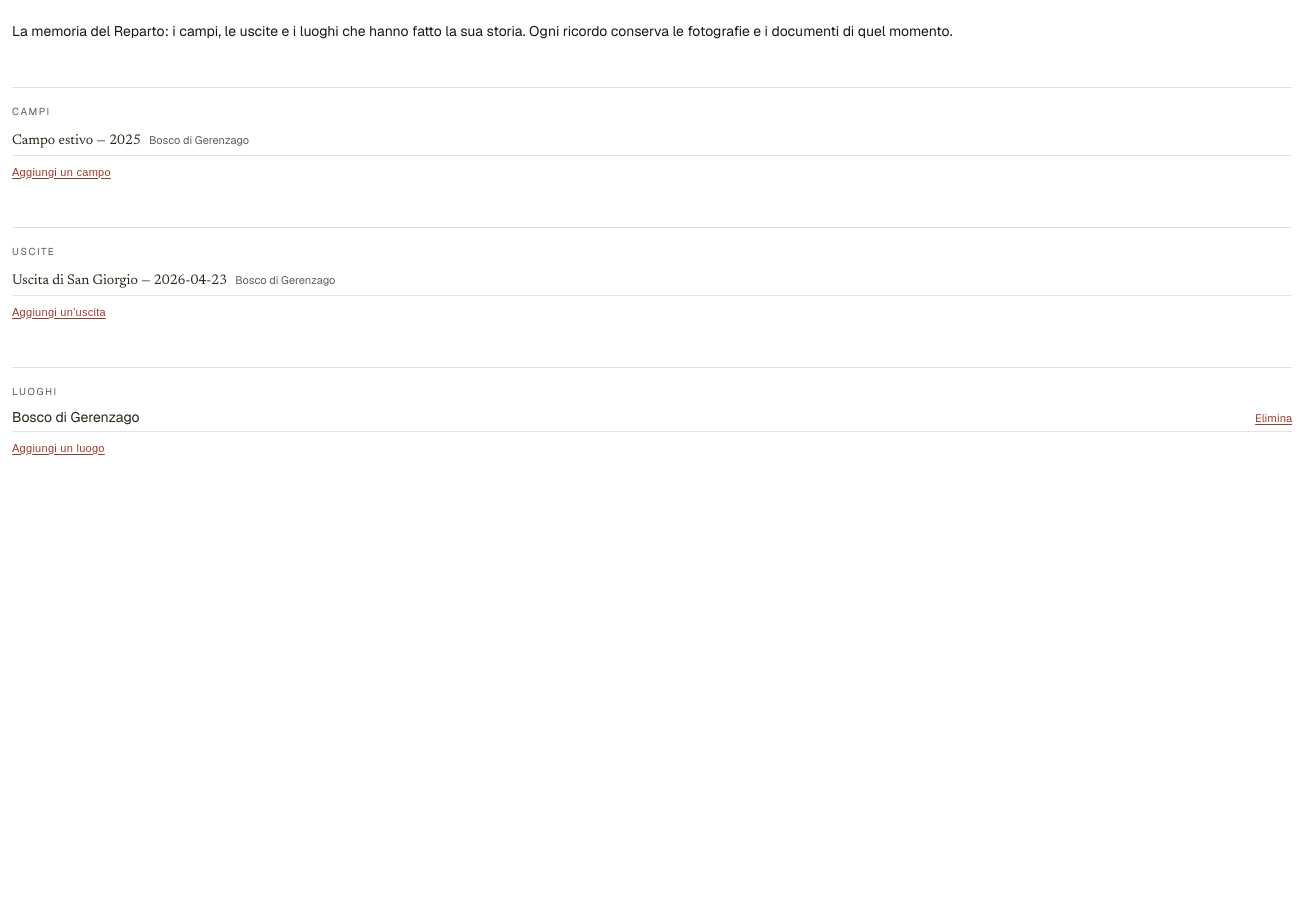
Test: ArchivioSurface — baule dell'archivio (Fase 9) › un'uscita con fotografie le mostra come link al file firmato
expect the button "Campo estivo — 2025" is shown: met, box [12,131,141,151]
Click the button "Uscita di San Giorgio — 2026-04-23" at {"x": 120, "y": 281}, box [12,271,227,291]
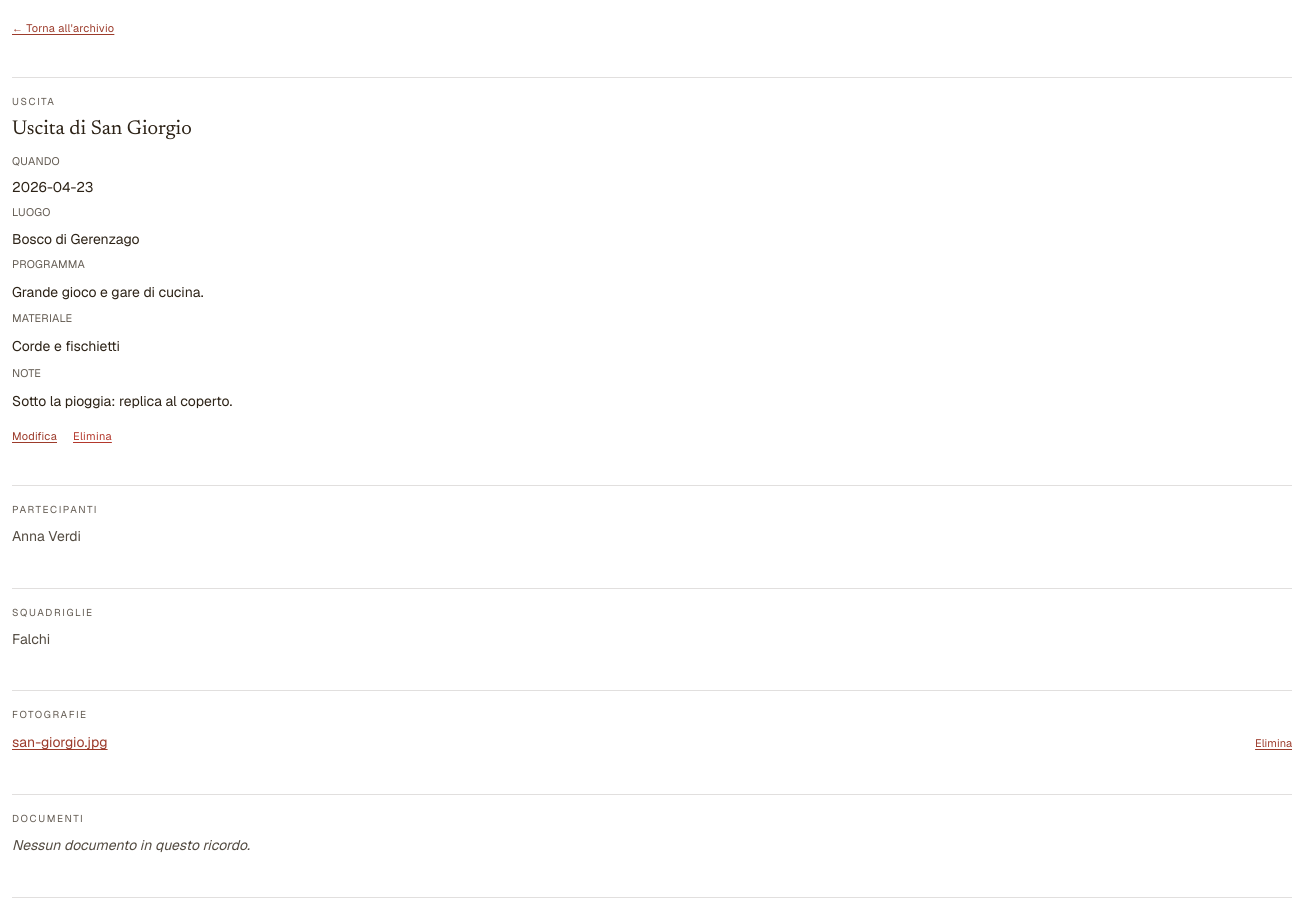
expect the text "Grande gioco e gare di cucina." is shown: met, box [12,283,204,301]
